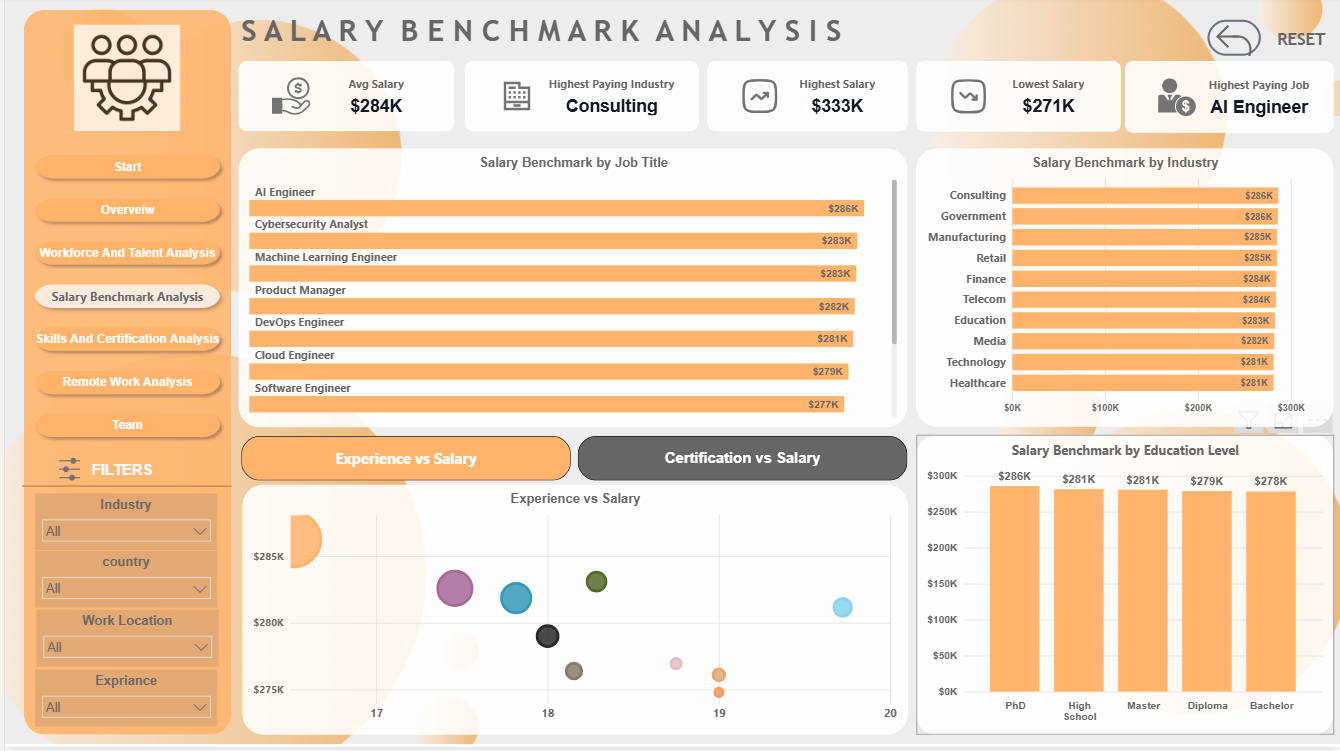

Layout of this report page (visuals, bound fields, positions):
{"tool":"powerbi","page":{"name":"Salary Benchmark Analysis ","canvas":[1920,1080],"ordinal":3},"visuals":[{"type":"clusteredColumnChart","title":"Salary Benchmark by Education Level","fields":{"Category":["Dim_Education.education_level"],"Y":["_Measures (2).Avg Salary"]},"box":[1310.7,630.4,600,432.1],"z":0},{"type":"barChart","title":"Salary Benchmark by Industry","fields":{"Y":["_Measures (2).Avg Salary"],"Category":["Dim_Industry.industry"]},"box":[1310.7,219.6,600,400],"z":1000},{"type":"scatterChart","title":"Experience vs Salary","fields":{"Size":["_Measures (2).Total Roles"],"Category":["Dim_Job.job_title"],"X":["_Measures (2).Avg Experince"],"Y":["_Measures (2).Avg Salary"]},"box":[341.6,702.9,956.4,359.6],"z":2000},{"type":"shape","box":[27,19.8,298.4,1042.7],"z":4000},{"type":"pageNavigator","box":[34.2,219.3,284,427.9],"z":5000},{"type":"image","box":[86.3,41.3,178,152.8],"z":6000},{"type":"shape","box":[25.3,678.6,300.4,54.3],"z":7000},{"type":"cardVisual","fields":{"Data":["_Measures (2).Avg Salary"]},"box":[336.2,93.5,309.2,100.7],"z":8000},{"type":"cardVisual","fields":{"Data":["_Measures (2).Highest Paying Industry"]},"box":[661.6,93.5,336.2,100.7],"z":9000},{"type":"cardVisual","fields":{"Data":["_Measures (2).Highest Salary"]},"box":[1010.3,93.5,287.6,100.7],"z":10000},{"type":"cardVisual","fields":{"Data":["_Measures (2).Lowest Salary"]},"box":[1310.7,92.9,294.6,101.8],"z":11000},{"type":"cardVisual","fields":{"Data":["_Measures (2).Highest Paying Job Title"]},"box":[1610.7,92.9,300,103.6],"z":12000},{"type":"bookmarkNavigator","box":[339.8,632.8,958.2,64.7],"z":13000},{"type":"textbox","box":[325.4,19.8,891.7,59.3],"z":14000},{"type":"clusteredBarChart","title":"Salary Benchmark by Job Title","fields":{"Category":["Dim_Job.job_title"],"Y":["_Measures (2).label space holder","_Measures (2).Avg Salary"]},"box":[336.2,219.3,961.8,400.9],"z":15000},{"type":"slicer","title":"Industry","fields":{"Values":["Dim_Industry.industry"]},"box":[43.4,714.8,262.4,81.4],"z":16000},{"type":"slicer","title":"country","fields":{"Values":["Dim_Geo.location"]},"box":[43.4,798.1,262.4,81.4],"z":17000},{"type":"slicer","title":"Work Location","fields":{"Values":["Dim_Worklocation.remote_work"]},"box":[45.2,883.1,262.4,81.4],"z":18000},{"type":"slicer","title":"Expriance","fields":{"Values":["Fact_Workforce.Experience Category"]},"box":[43.4,968.2,262.4,81.4],"z":19000},{"type":"textbox","box":[18.1,666,300.4,45.2],"z":20000},{"type":"image","box":[59.7,660.5,67,41.6],"z":21000},{"type":"actionButton","title":"Reset","box":[1730,35,76.8,51.8],"z":22000},{"type":"textbox","box":[1824.6,43.9,94.6,76.8],"z":23000}]}

Visuals, with their boxes in screenshot pixels (x1, y1, x2, y2), scaled from the page's 1920x1080 canvas onto the 1340x751 screenshot:
"Salary Benchmark by Education Level" clusteredColumnChart: bbox=(915, 438, 1334, 739)
"Salary Benchmark by Industry" barChart: bbox=(915, 153, 1334, 431)
"Experience vs Salary" scatterChart: bbox=(238, 489, 906, 739)
shape: bbox=(19, 14, 227, 739)
pageNavigator: bbox=(24, 152, 222, 450)
image: bbox=(60, 29, 184, 135)
shape: bbox=(18, 472, 227, 510)
cardVisual - _Measures (2).Avg Salary: bbox=(235, 65, 450, 135)
cardVisual - _Measures (2).Highest Paying Industry: bbox=(462, 65, 696, 135)
cardVisual - _Measures (2).Highest Salary: bbox=(705, 65, 906, 135)
cardVisual - _Measures (2).Lowest Salary: bbox=(915, 65, 1120, 135)
cardVisual - _Measures (2).Highest Paying Job Title: bbox=(1124, 65, 1334, 137)
bookmarkNavigator: bbox=(237, 440, 906, 485)
textbox: bbox=(227, 14, 849, 55)
"Salary Benchmark by Job Title" clusteredBarChart: bbox=(235, 152, 906, 431)
"Industry" slicer: bbox=(30, 497, 213, 554)
"country" slicer: bbox=(30, 555, 213, 612)
"Work Location" slicer: bbox=(32, 614, 215, 671)
"Expriance" slicer: bbox=(30, 673, 213, 730)
textbox: bbox=(13, 463, 222, 495)
image: bbox=(42, 459, 88, 488)
"Reset" actionButton: bbox=(1207, 24, 1261, 60)
textbox: bbox=(1273, 31, 1339, 84)
